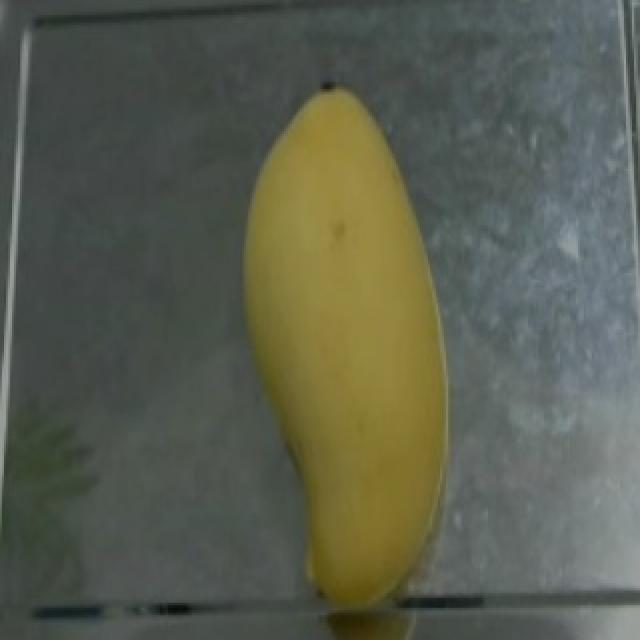fruit: (224, 74, 458, 442)
